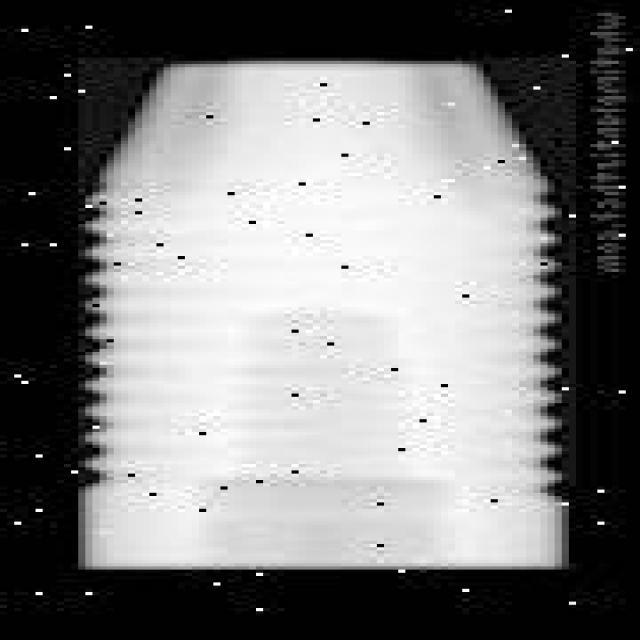OCO Biomedical Implant: (78, 53, 580, 578)
